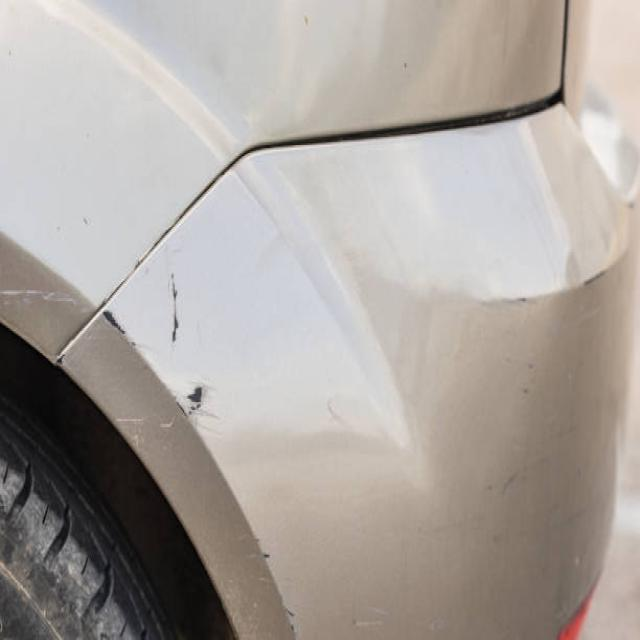scratch: (0, 268, 80, 331), (242, 526, 298, 615), (100, 300, 142, 365), (178, 375, 220, 439), (167, 263, 192, 351), (570, 260, 614, 294)
